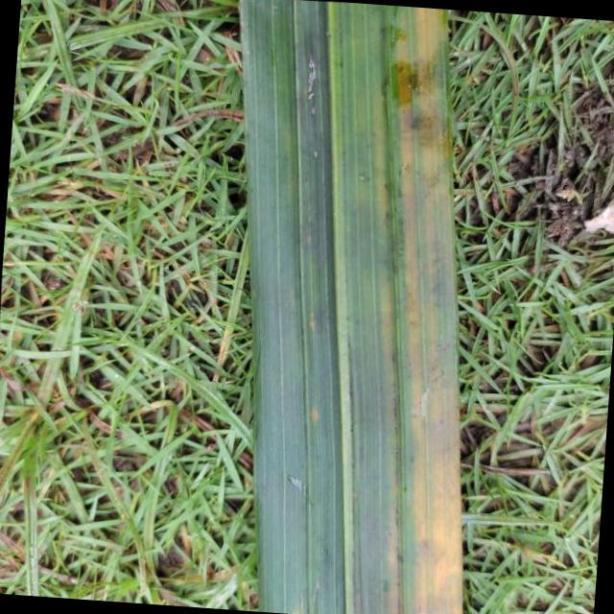Megnesium: (232, 0, 462, 614)
